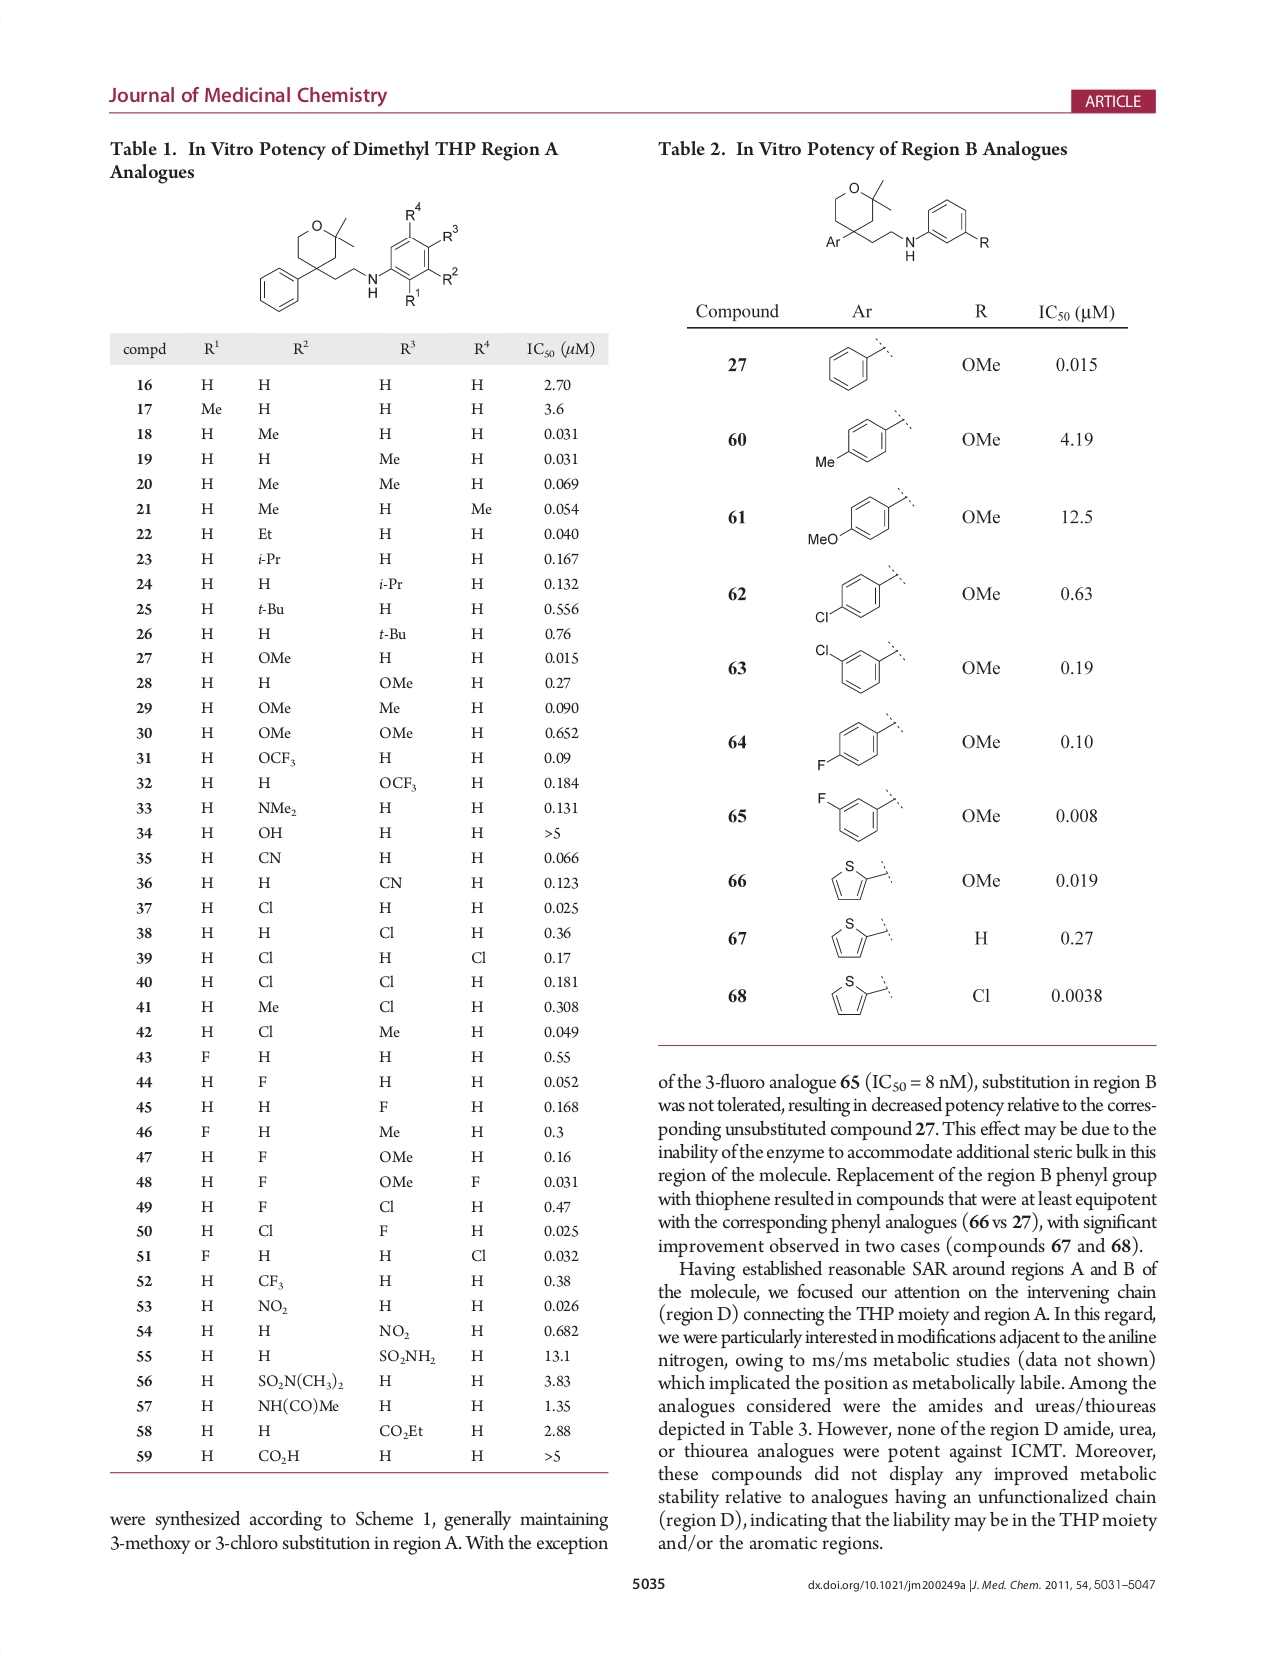exist_molecular: (257, 198, 461, 317), (818, 177, 989, 269), (809, 481, 916, 551), (810, 407, 915, 473), (811, 559, 907, 626), (814, 637, 910, 700), (815, 707, 904, 774), (815, 783, 904, 843), (822, 332, 896, 394), (826, 967, 896, 1023), (826, 855, 898, 906), (823, 915, 896, 959)
